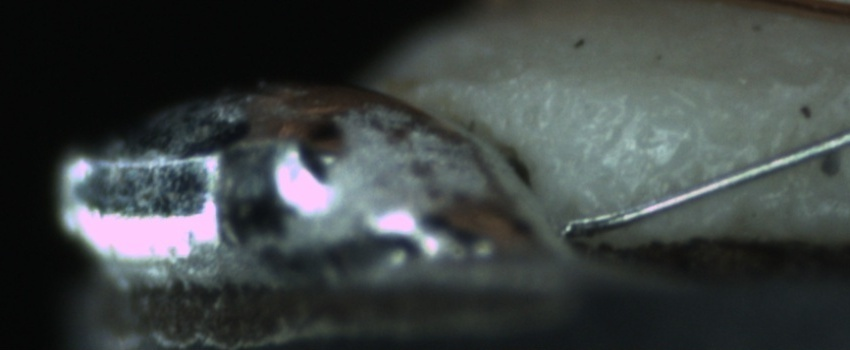TS: (556, 108, 849, 236)
